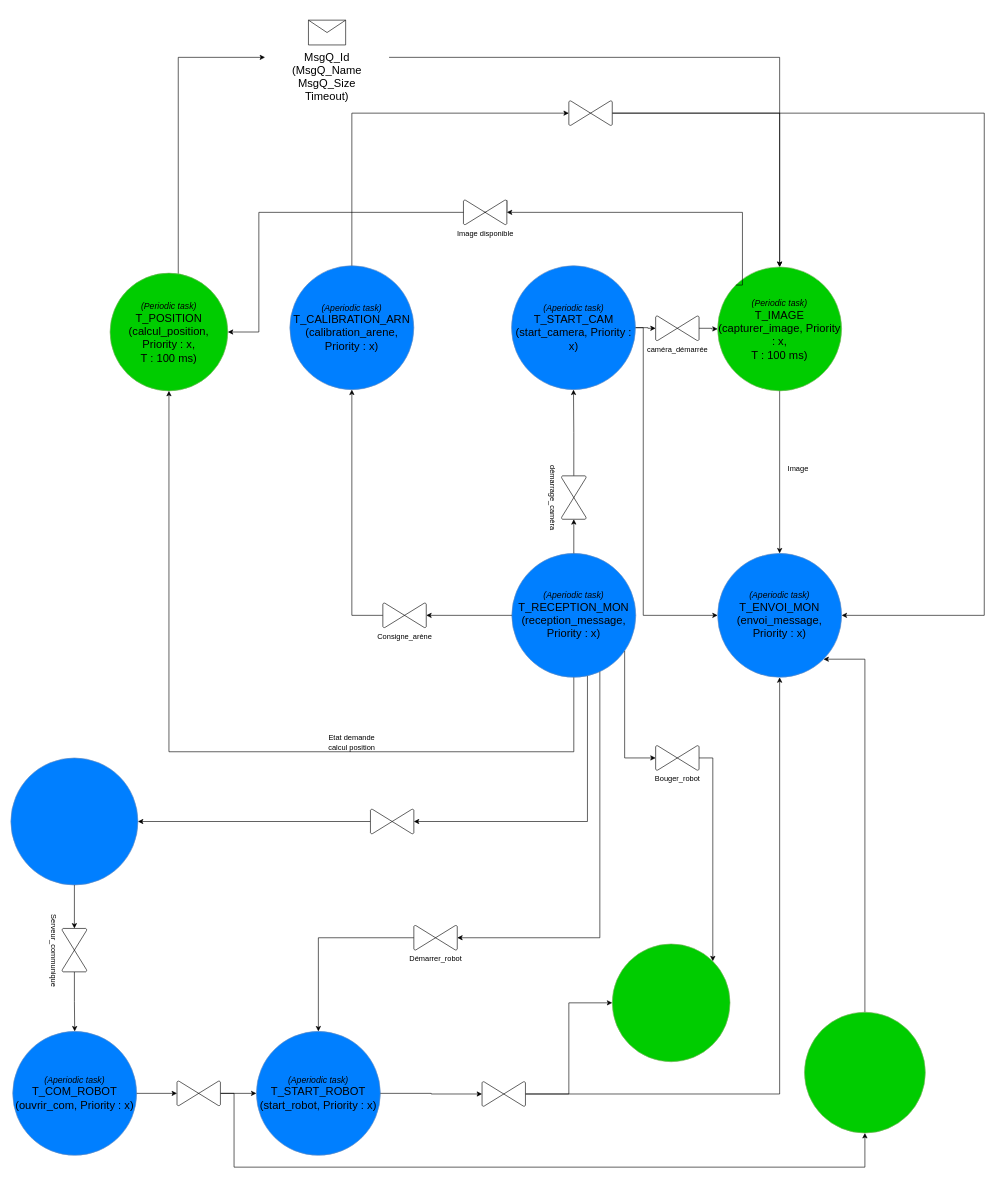
Image size: 1000x1183. Some labels were removed from this diagram. Here are the shapes that lost their labels. From the top down, the centre of each, then its label:
At point 590,113: "arène_trouvée".
At point 74,821: "(Aperiodic task) T_SERVEUR (connection_serveur, Priority : x)".
At point 392,821: "Demande_connexion".
At point 671,1002: "(Periodic task) T_MOUVEMENT (mouvement_robot, Priority : x, T : 100 ms)".
At point 864,1072: "(Periodic task) T_BATTERIE (niveau_batterie, Priority : x, T : 500 ms)".
At point 198,1093: "Robot_communique".
At point 503,1093: "Robot_démarré".
